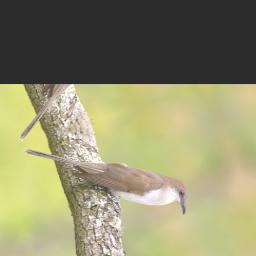Cuckoo: (22, 105, 196, 256)
